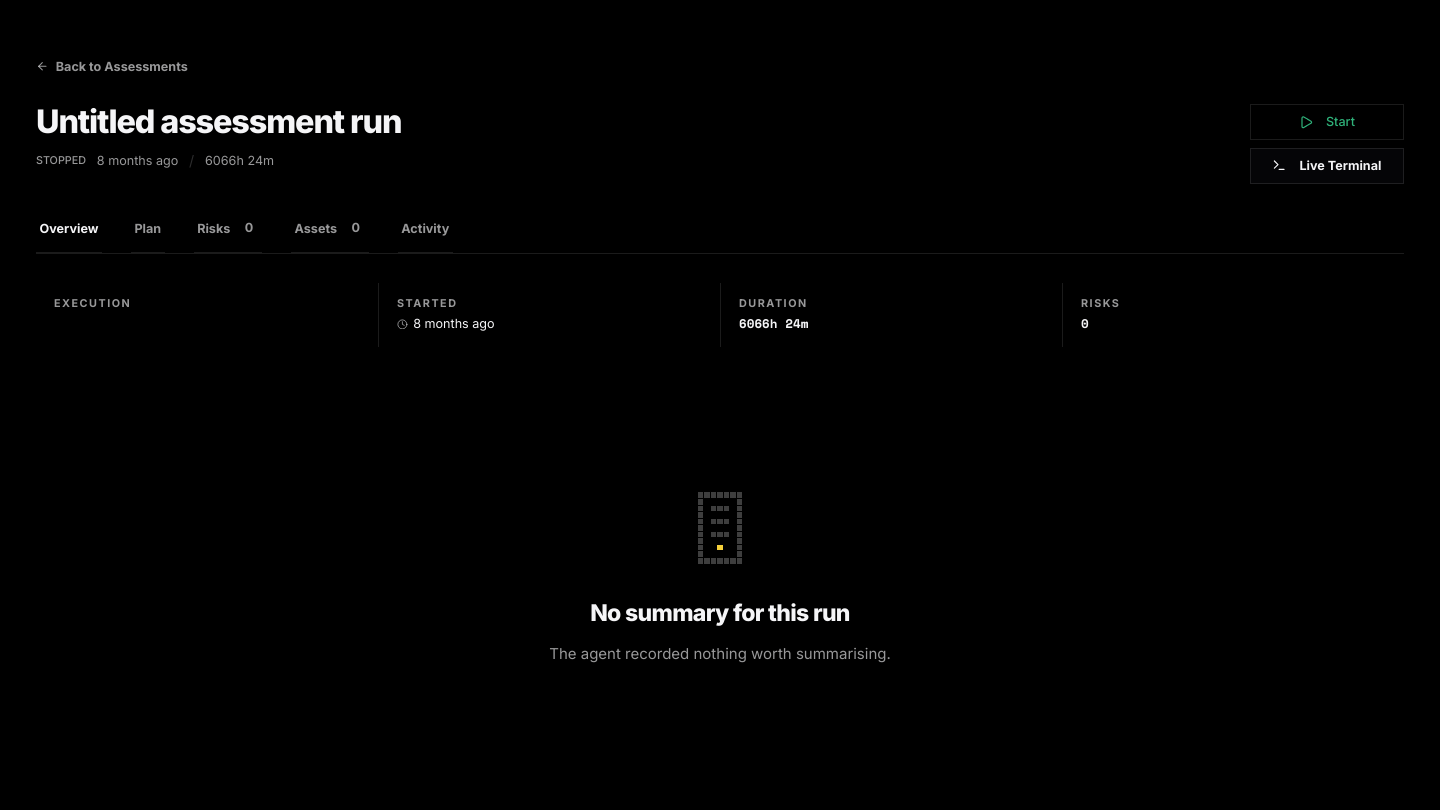
RunDetailPage › hides the internal mission envelope from the plan tab
Click the button "Plan": (148, 230) [131, 205, 165, 254]
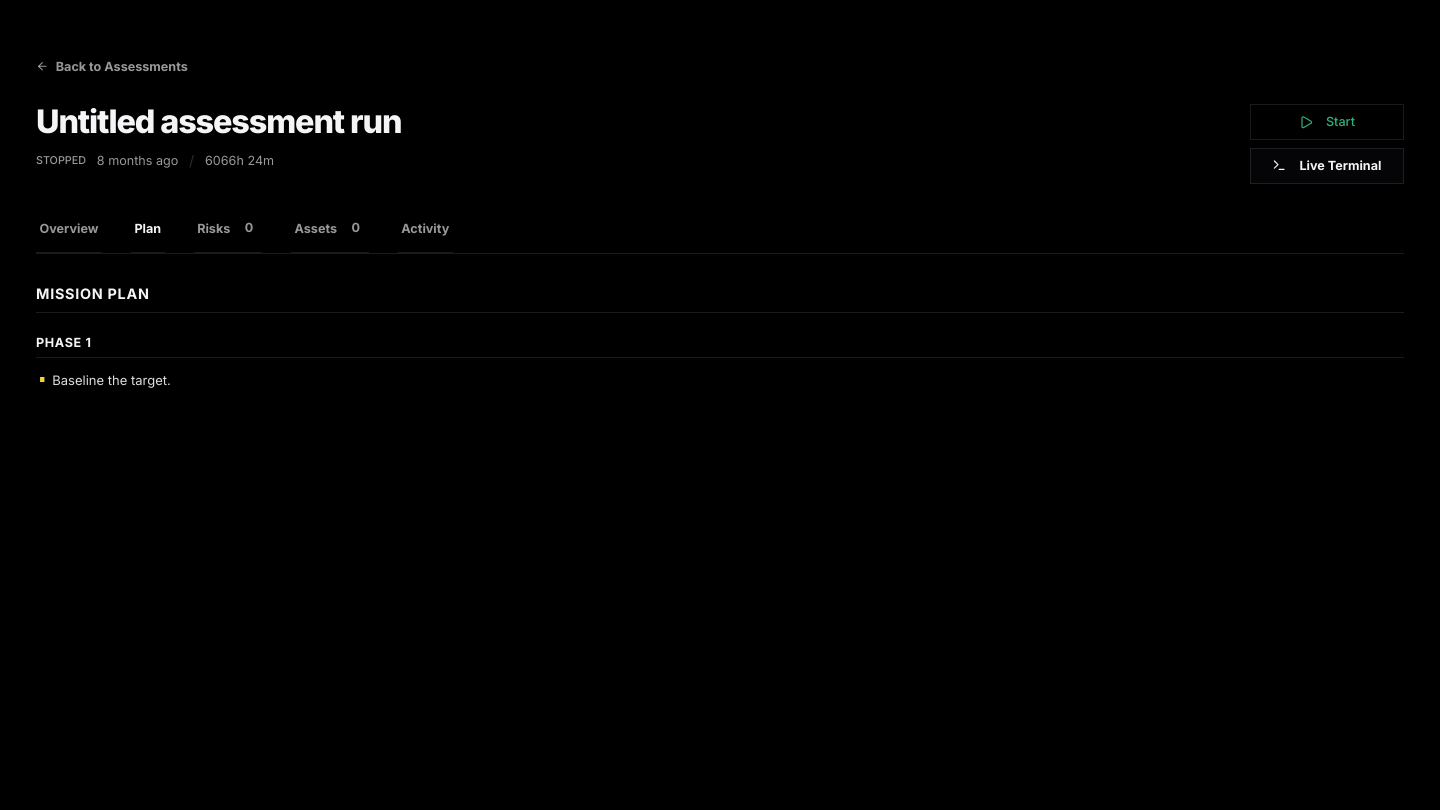
Expected: the text "Baseline the target." is shown, [52, 372, 171, 388]
